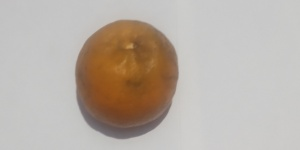BAD: (75, 19, 181, 130)
